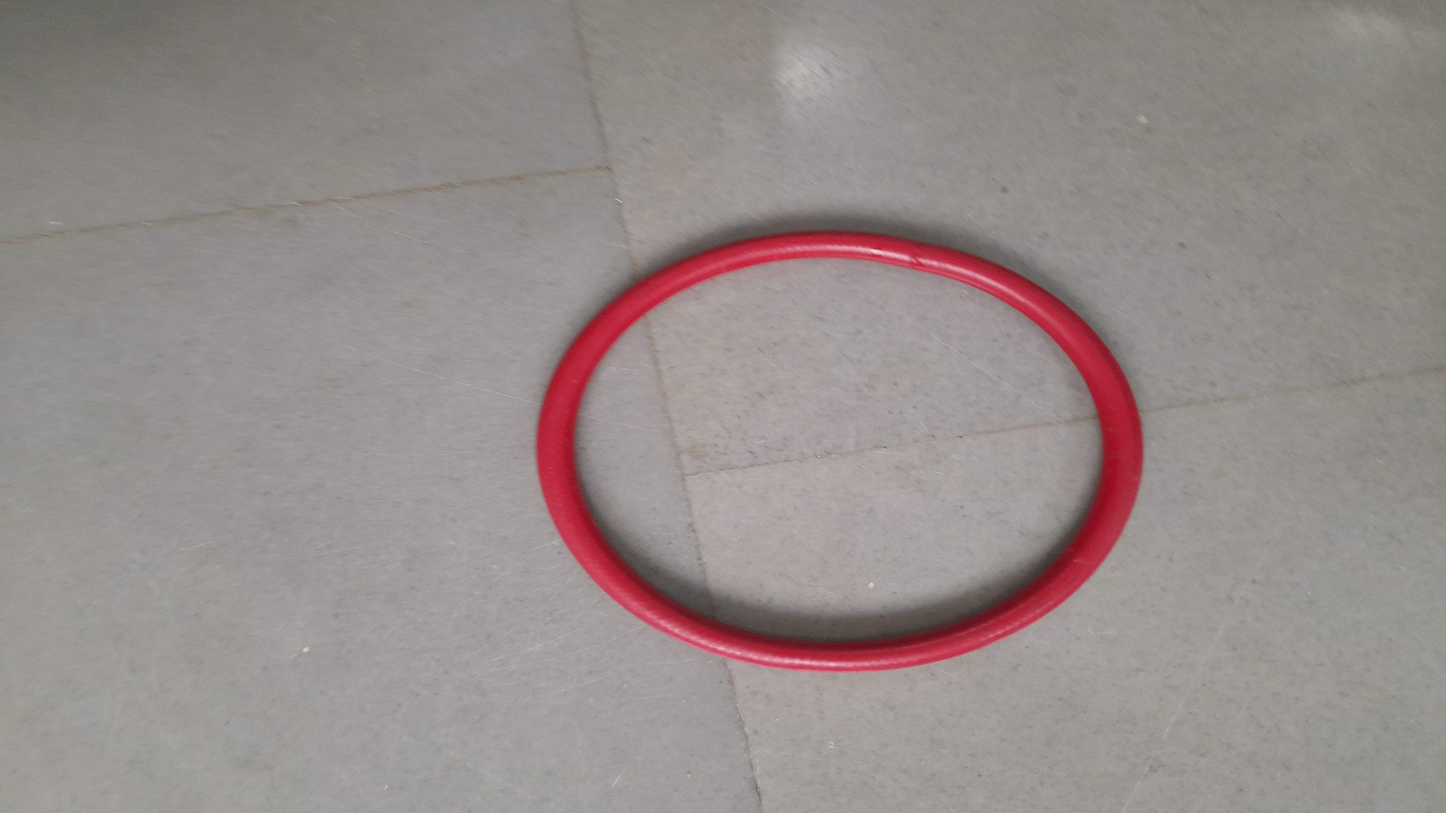Red ring: (535, 227, 1144, 666)
